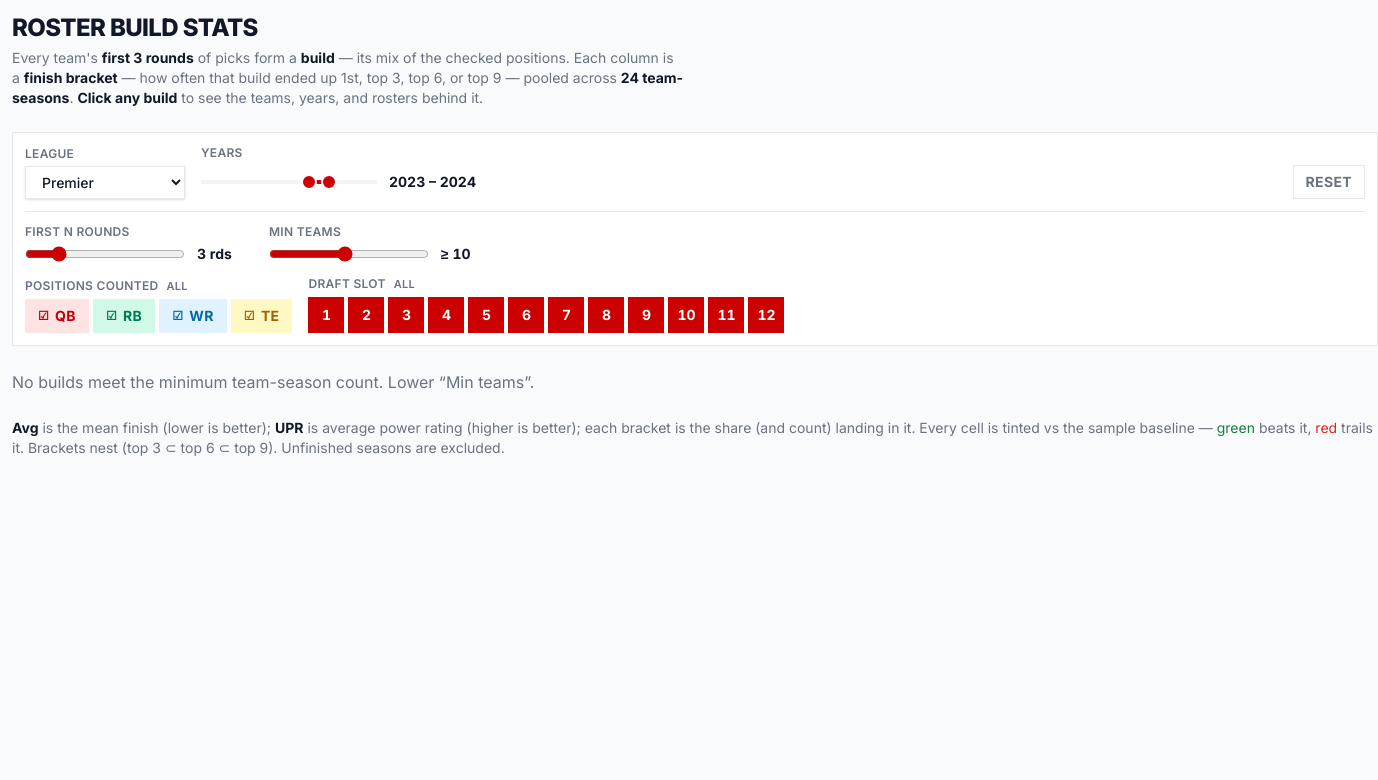
Test: reset restores the full sample (clears all filters)
Check: the text "24 team-seasons" is shown, box left=12, top=69, right=683, bottom=106
Click the button "Reset" at (1329, 182), box left=1292, top=165, right=1365, bottom=199
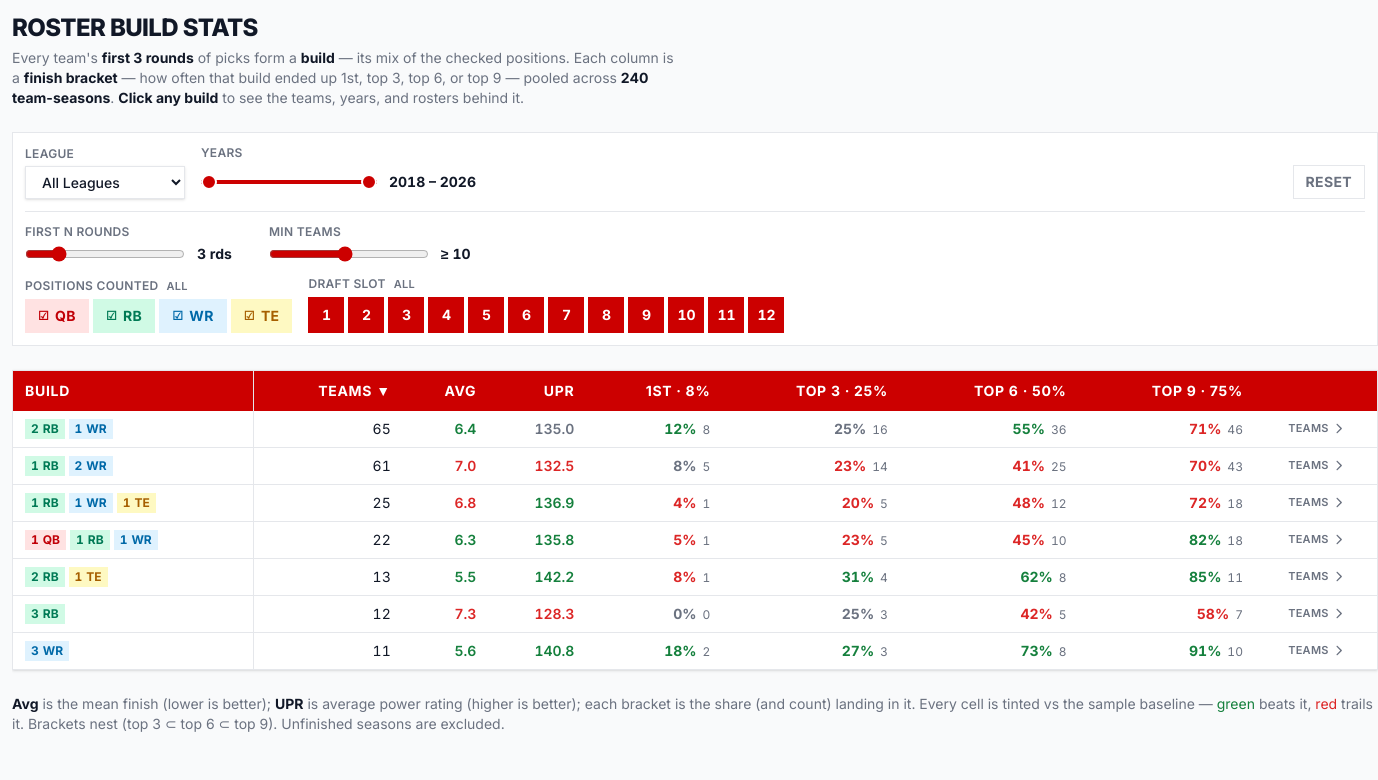
Check: the text "240 team-seasons" is shown, box left=12, top=69, right=648, bottom=106
